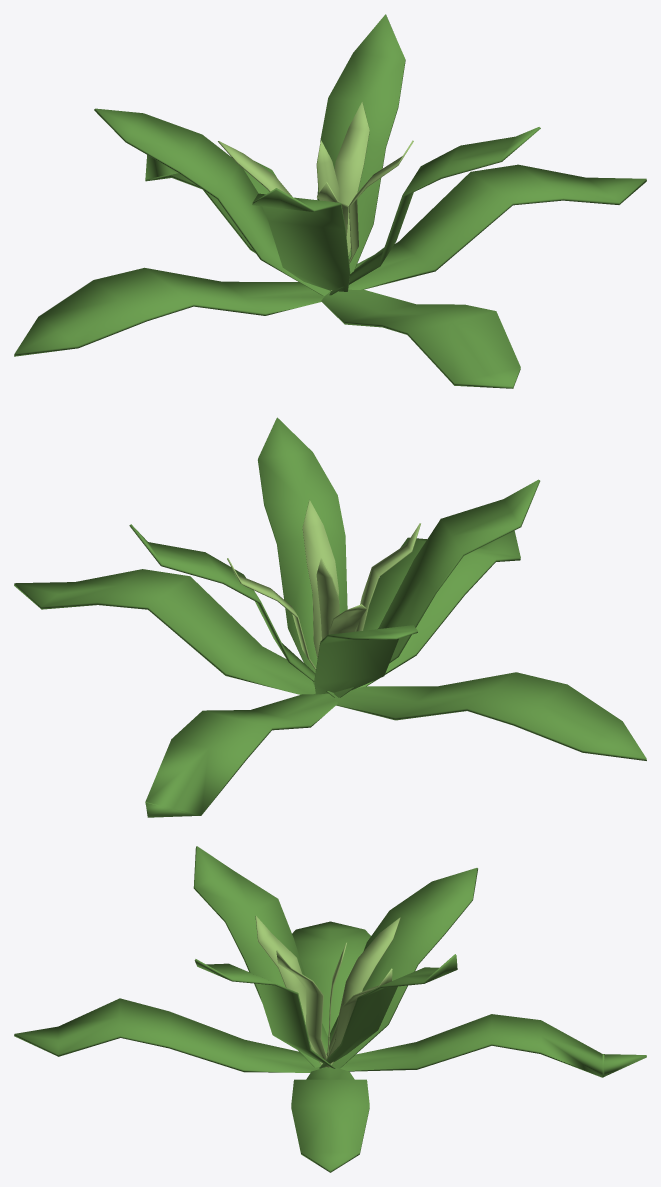
The model's file is leafyplant2.fbx.
3 views of the same model, one above another, from view 1: azimuth 30°, elevation 25°; view 2: azimuth 150°, elevation 25°; view 3: azimuth 270°, elevation 25° (orthographic). The views are drawn at different scales.
Visible parts, largest first — view 1: leafyplant2; view 2: leafyplant2; view 3: leafyplant2.
Part boxes in pixels (x1,y1,x2,y2): leafyplant2: (14,14,646,388); leafyplant2: (14,417,646,817); leafyplant2: (14,846,646,1172).
Size of the model in its own units: 2.11 by 0.6091 by 2.11.
